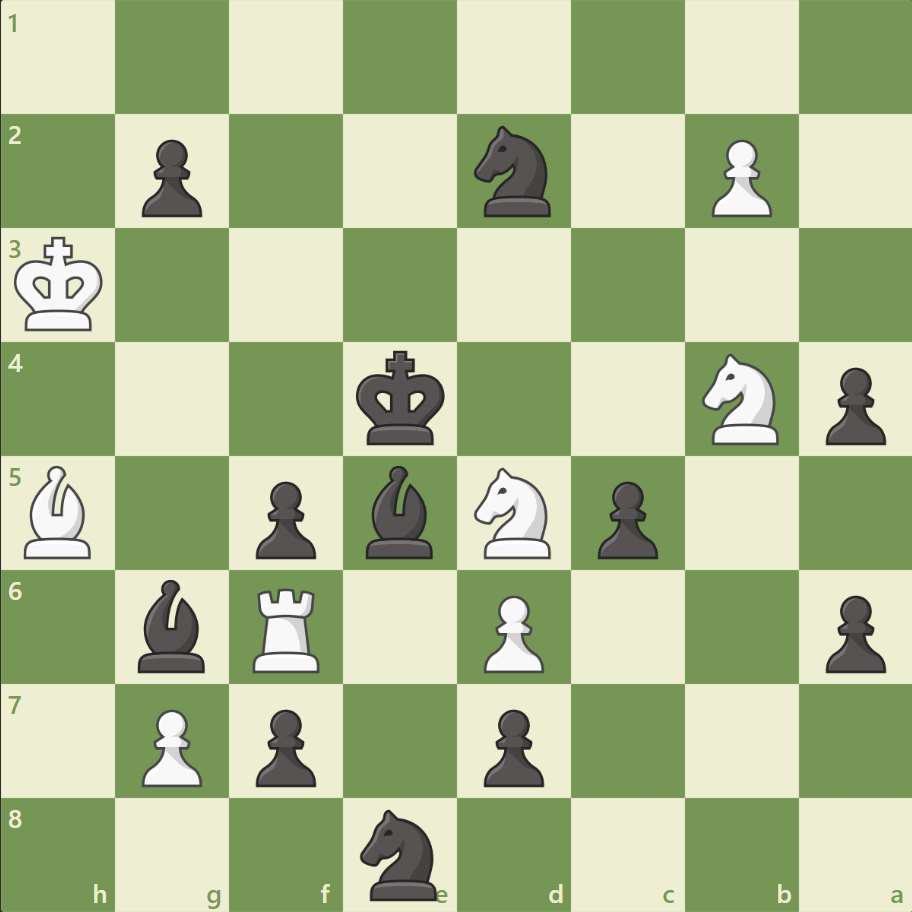B: (17, 460, 101, 563)
K: (11, 231, 111, 339)
N: (465, 461, 562, 564), (692, 348, 789, 450)
P: (133, 700, 208, 791), (474, 586, 549, 677), (701, 132, 776, 223)
R: (246, 579, 329, 676)
b: (358, 460, 442, 563), (131, 574, 215, 676)
k: (351, 344, 451, 452)
n: (351, 802, 449, 904), (465, 121, 562, 223)
p: (474, 700, 549, 791), (247, 700, 322, 791), (247, 473, 322, 564), (133, 132, 208, 223), (815, 586, 889, 677), (588, 473, 662, 564), (815, 359, 889, 450)
